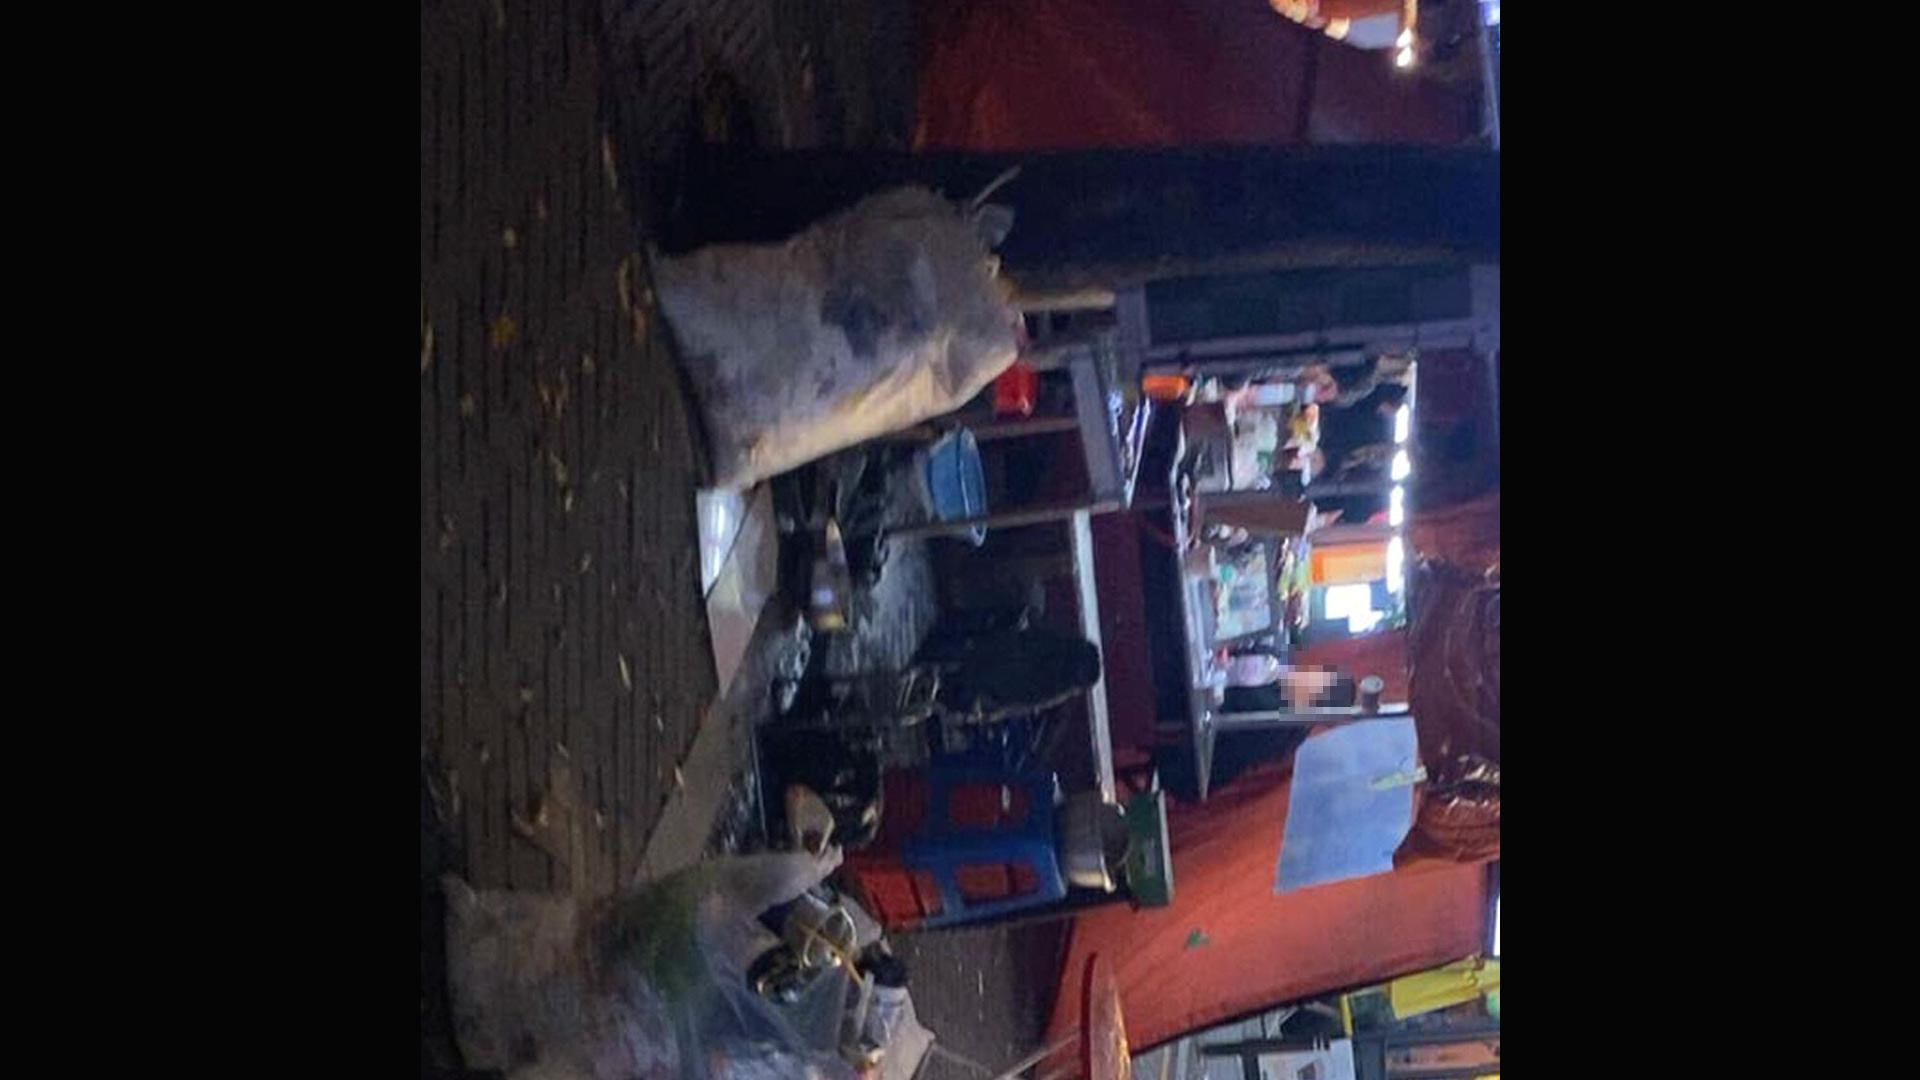white_bag: (654, 152, 1046, 512), (435, 808, 940, 1080)
